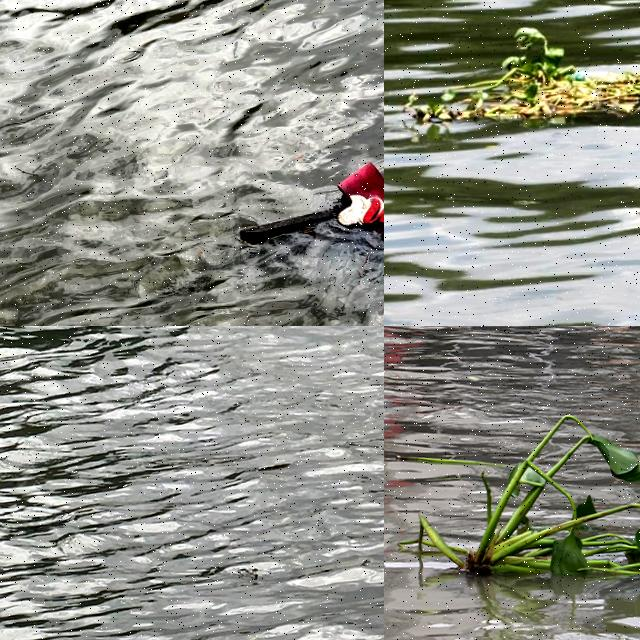water-hyacinth: (408, 407, 640, 601), (385, 1, 640, 144)
